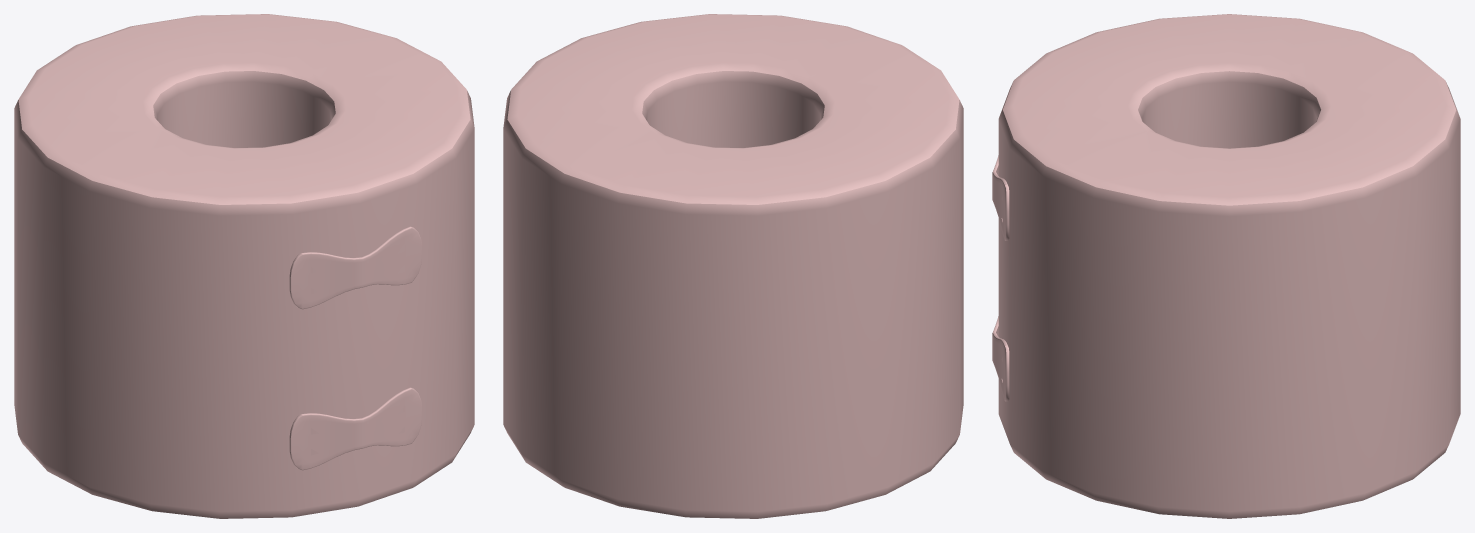
Rendered from Bandage.fbx.
3 views of the same model, side by side, from view 1: azimuth 30°, elevation 25°; view 2: azimuth 150°, elevation 25°; view 3: azimuth 270°, elevation 25° (orthographic).
Parts seen in each view (by area): view 1: bandage_roll, bandage_clasp1, bandage_clasp2; view 2: bandage_roll; view 3: bandage_roll, bandage_clasp2, bandage_clasp1.
Part boxes in pixels (bbox=[...]): bandage_roll: bbox=[14, 14, 474, 518]; bandage_clasp1: bbox=[289, 226, 421, 309]; bandage_clasp2: bbox=[289, 387, 421, 470]; bandage_roll: bbox=[503, 14, 963, 518]; bandage_roll: bbox=[998, 14, 1460, 518]; bandage_clasp2: bbox=[992, 316, 1009, 401]; bandage_clasp1: bbox=[992, 155, 1009, 240].
Bounding box in the file's own units: 0.2279 × 0.1746 × 0.231.
